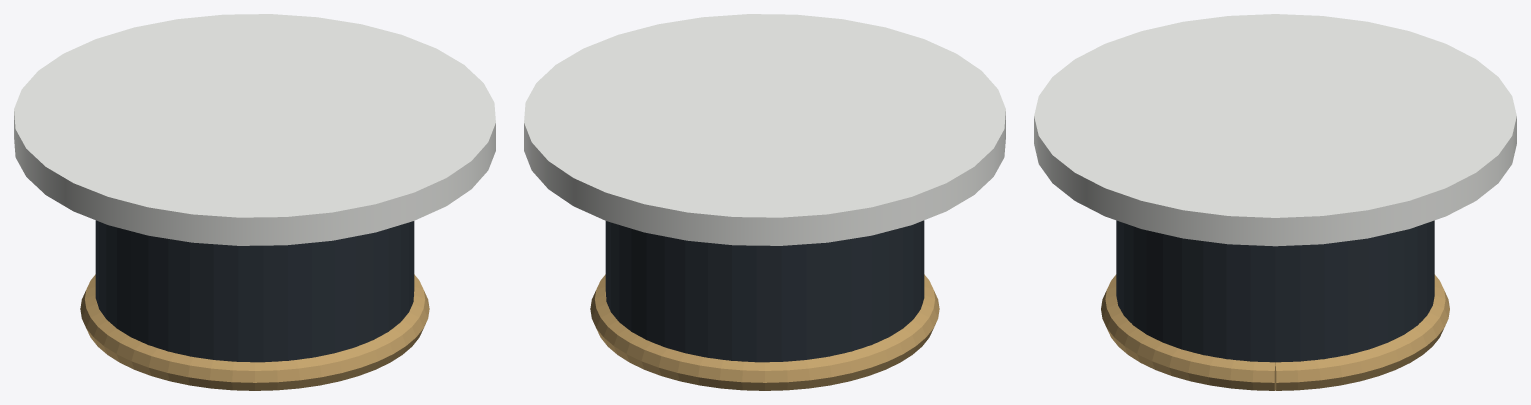
The model's file is recessed-round.glb.
3 renders of one model, left to right at view 1: azimuth 30°, elevation 25°; view 2: azimuth 150°, elevation 25°; view 3: azimuth 270°, elevation 25°, orthographic.
Parts seen in each view (by area): view 1: recessed-round authored assembly; view 2: recessed-round authored assembly; view 3: recessed-round authored assembly.
Boxes of the visible parts, box(x1,y1,x2,y2) form: recessed-round authored assembly: box(14, 14, 495, 390); recessed-round authored assembly: box(524, 14, 1005, 390); recessed-round authored assembly: box(1034, 14, 1516, 390).
Size of the model in its own units: 0.095 by 0.045 by 0.095.
